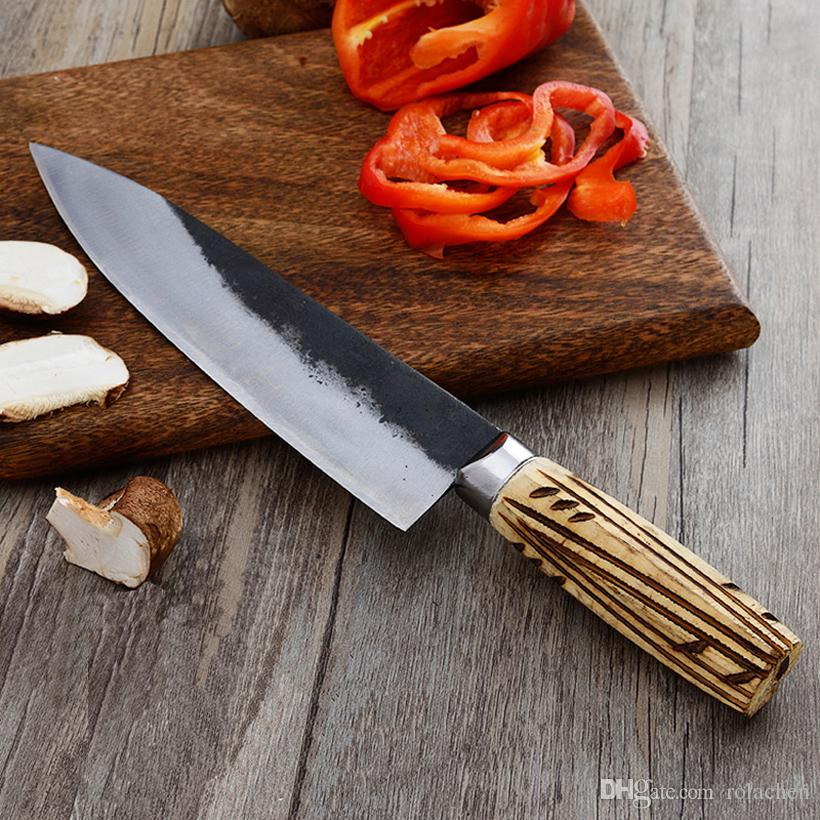knife: (27, 137, 804, 721)
